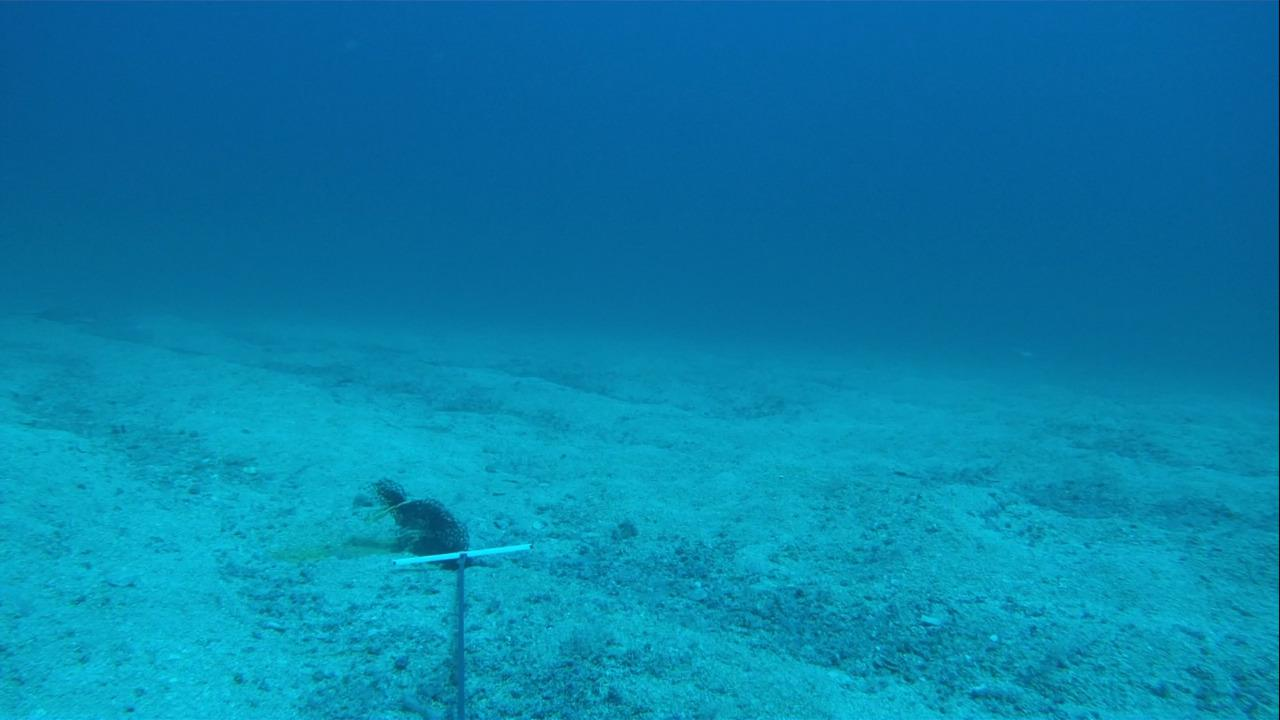myliobatis: (8, 294, 130, 339)
